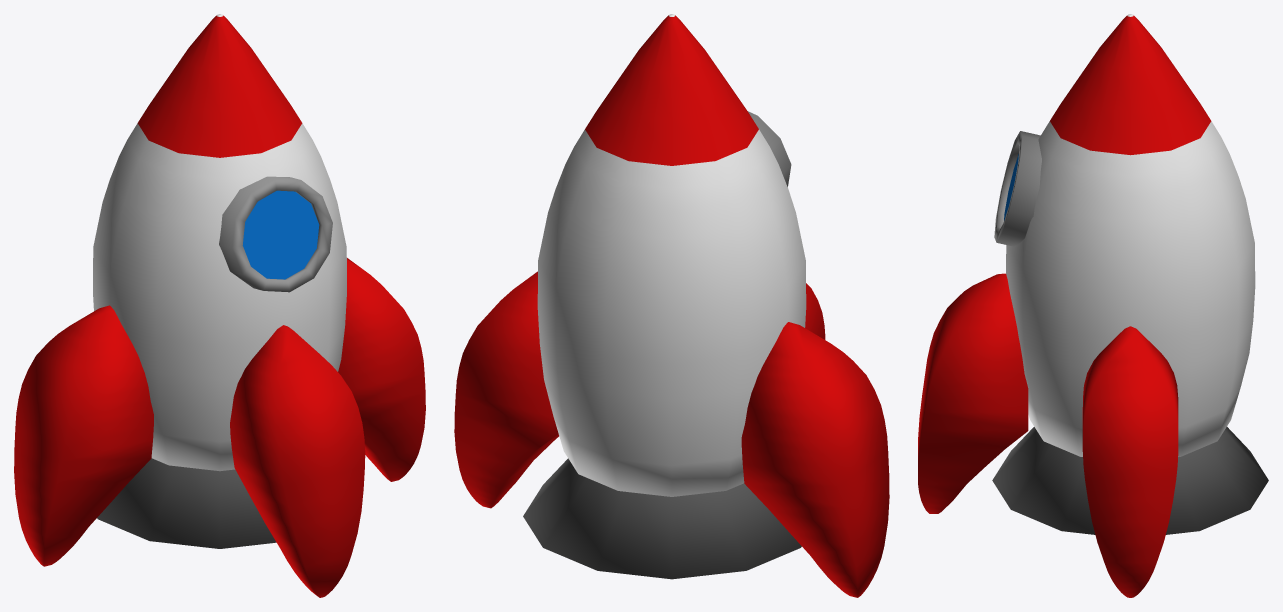
File: basic spaceschip.fbx
3 views of the same model, side by side, from view 1: azimuth 30°, elevation 25°; view 2: azimuth 150°, elevation 25°; view 3: azimuth 270°, elevation 25° (orthographic). The views are drawn at different scales.
Parts seen in each view (by area): view 1: Cube; view 2: Cube; view 3: Cube.
Part boxes in pixels (x1=…): Cube: x1=14, y1=14, x2=425, y2=597; Cube: x1=454, y1=14, x2=889, y2=597; Cube: x1=918, y1=14, x2=1268, y2=597.
Bounding box in the file's own units: 2.71 × 3.5 × 2.23.
